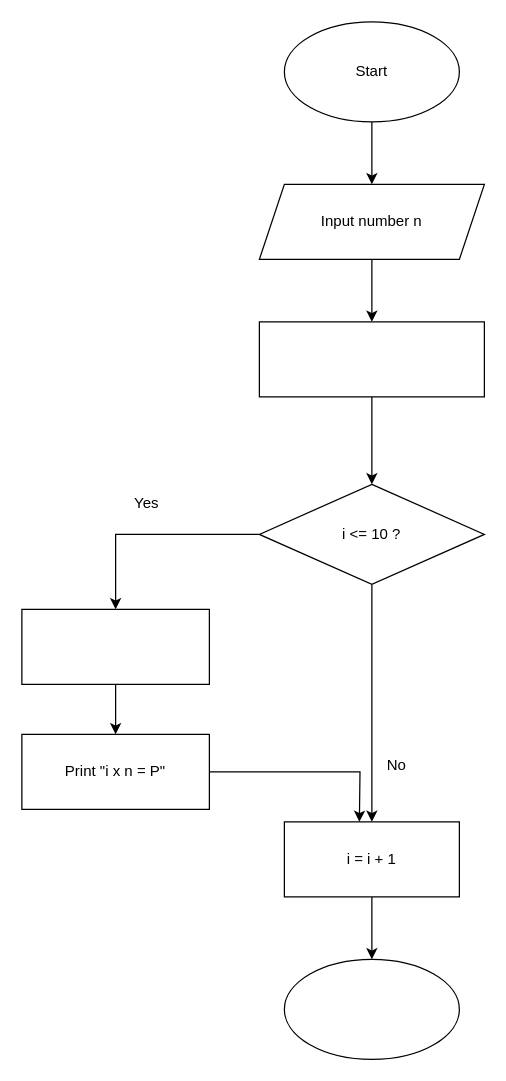
Some shapes in this 506 by 1081 pixel diagram are drawn without their labels. Here are the shapes that lost their labels. From the top down, the centre of each, then its label:
the point at 371,359: Set i = 1
the point at 115,646: P = i x n
the point at 371,1008: End
